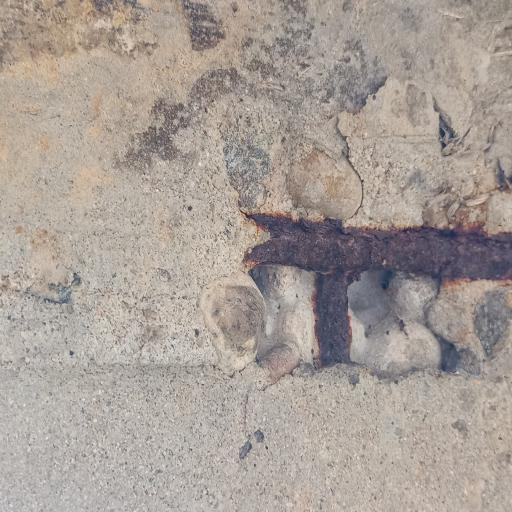exposed_rebar: (245, 215, 512, 365)
